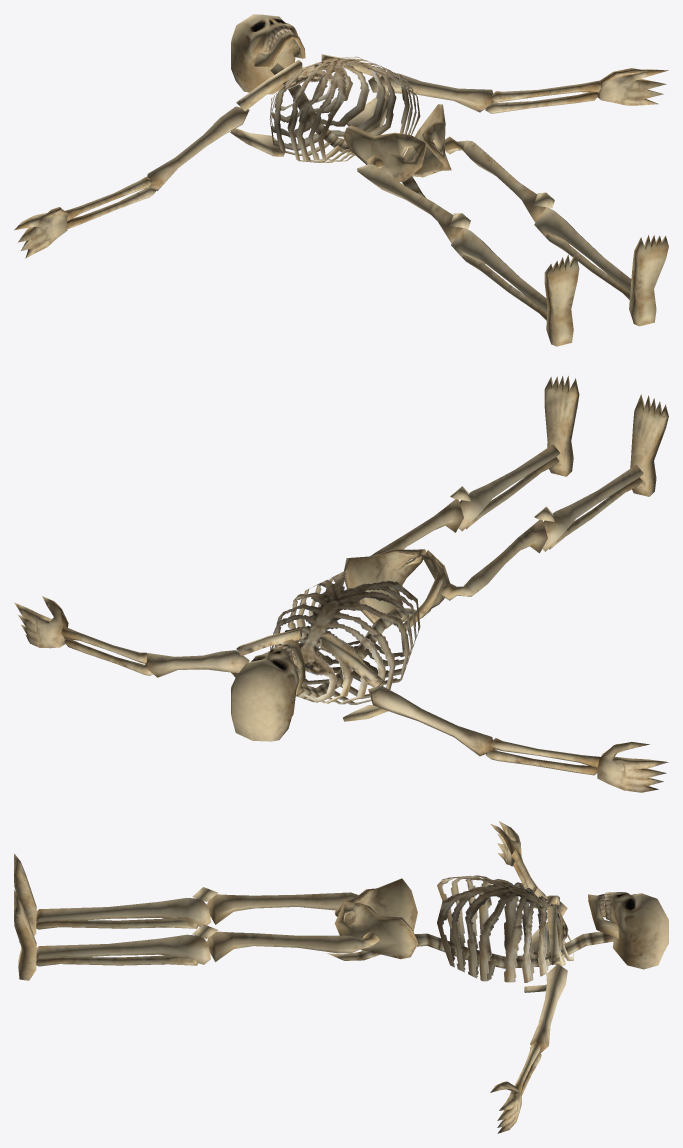
Rendered from skeleton_character_psx.obj.
3 renders of one model, top to bottom at view 1: azimuth 30°, elevation 25°; view 2: azimuth 150°, elevation 25°; view 3: azimuth 270°, elevation 25°, orthographic. The views are drawn at different scales.
Parts seen in each view (by area): view 1: obj1; view 2: obj1; view 3: obj1.
Boxes of the visible parts, bbox=[...] form: obj1: bbox=[14, 14, 668, 346]; obj1: bbox=[14, 376, 668, 792]; obj1: bbox=[14, 821, 668, 1133].
Size of the model in its own units: 1.78 by 0.3468 by 1.7.
Materials: 1 (1 with a texture image).
